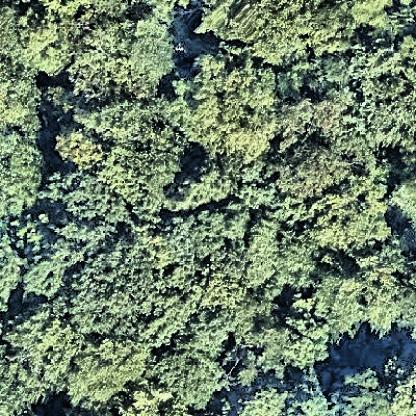tree-top: (196, 166, 308, 292), (164, 46, 285, 162), (201, 1, 395, 66), (102, 83, 187, 212), (72, 18, 188, 99), (1, 296, 75, 416), (266, 101, 352, 202), (41, 164, 125, 262), (56, 329, 158, 408), (318, 252, 404, 332), (351, 84, 416, 189), (305, 177, 393, 253), (83, 239, 156, 330), (247, 297, 326, 374), (1, 220, 74, 302), (154, 339, 234, 412), (16, 1, 85, 81), (331, 362, 416, 416), (242, 366, 329, 416), (1, 131, 42, 218), (48, 124, 113, 172)
